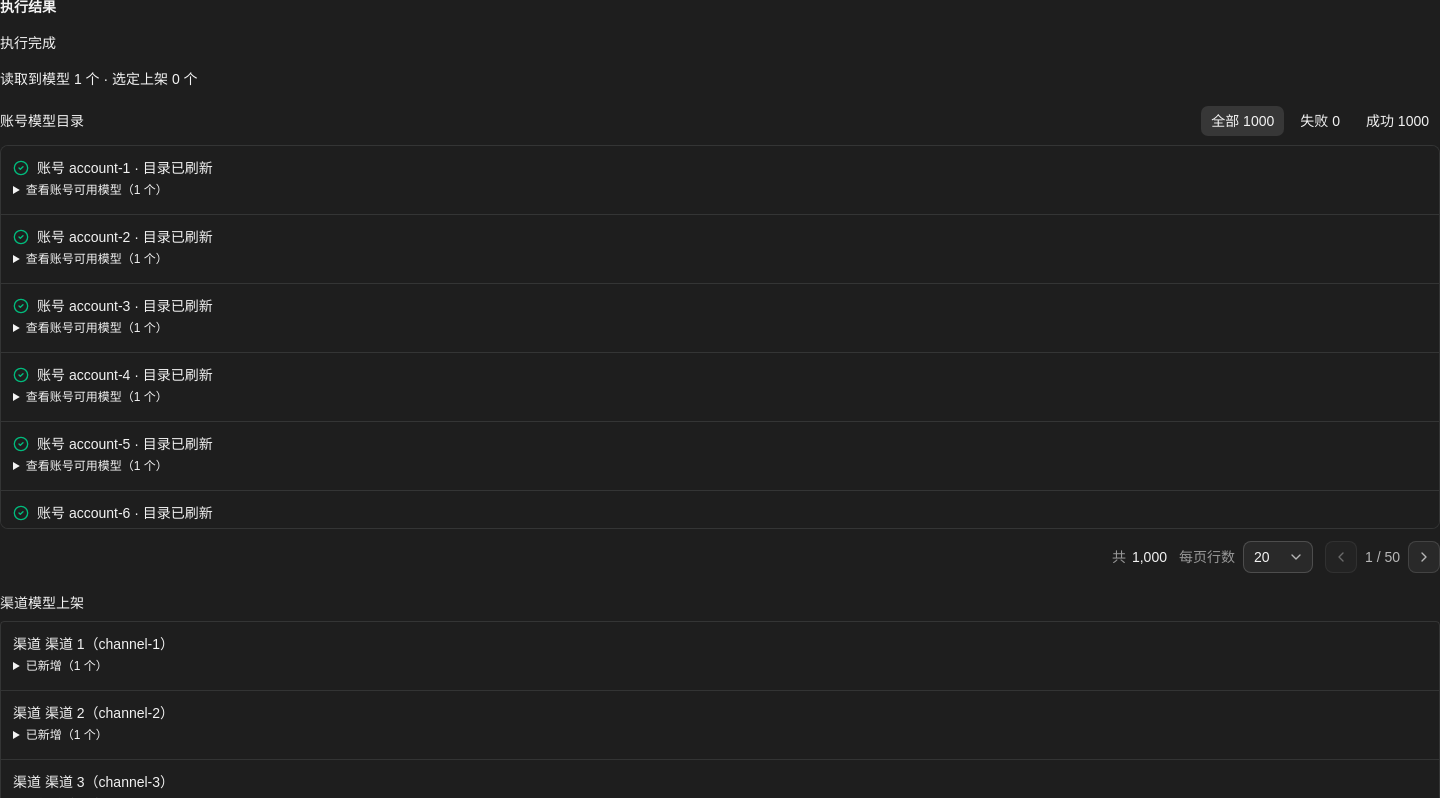
Test: 大结果集默认只挂载20条账号和渠道记录，翻页后可读取下一页
The width and height of the screenshot is (1440, 798).
Expected: the text "账号 account-21 · 目录已刷新" is not shown
Expected: the text "渠道 21" is not shown
Click the button named "转到下一页" at (1424, 557), box 1408,541 -> 1439,573
(page scrolled)
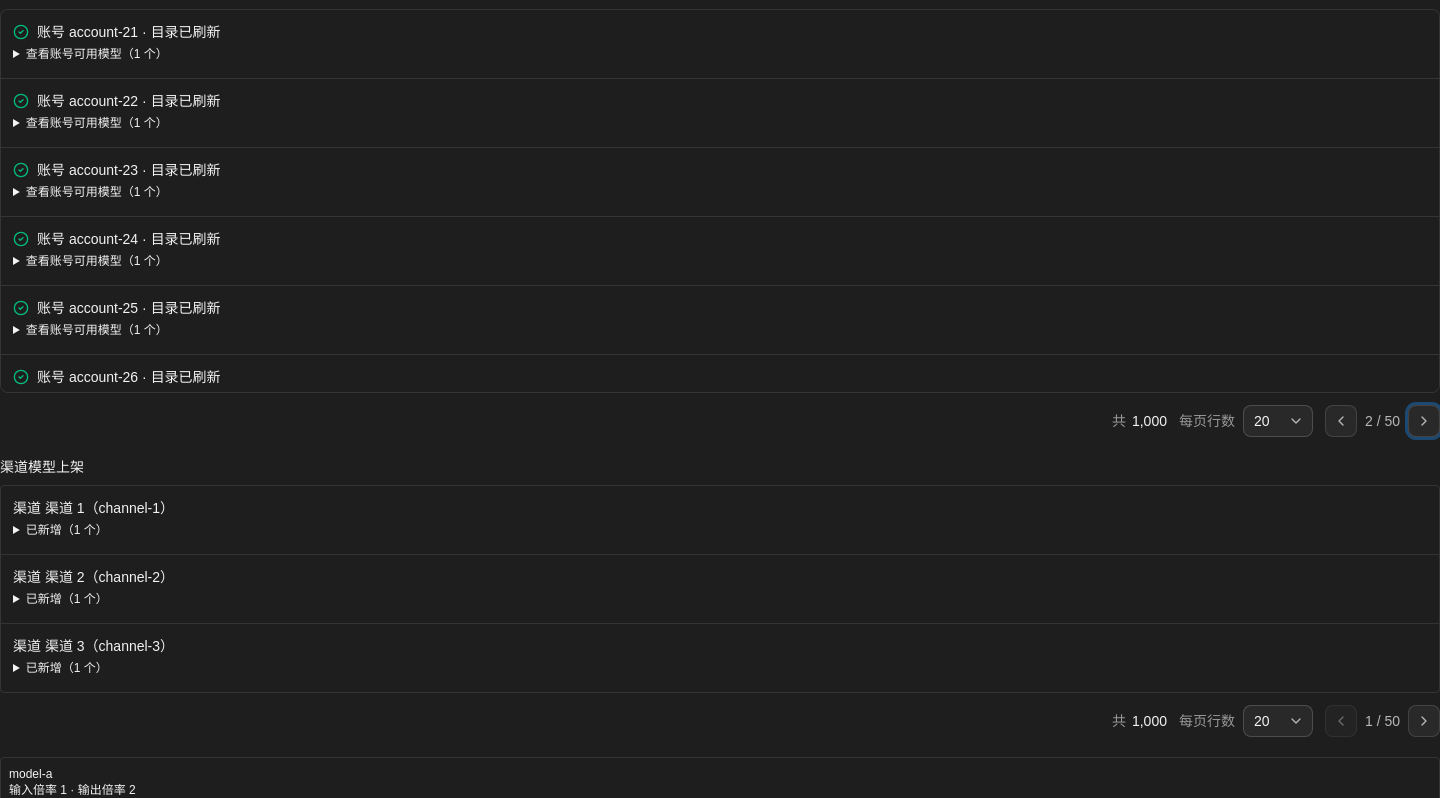
Click the button named "转到下一页" next to "1 / 50" at (1424, 721), box 1408,705 -> 1439,737
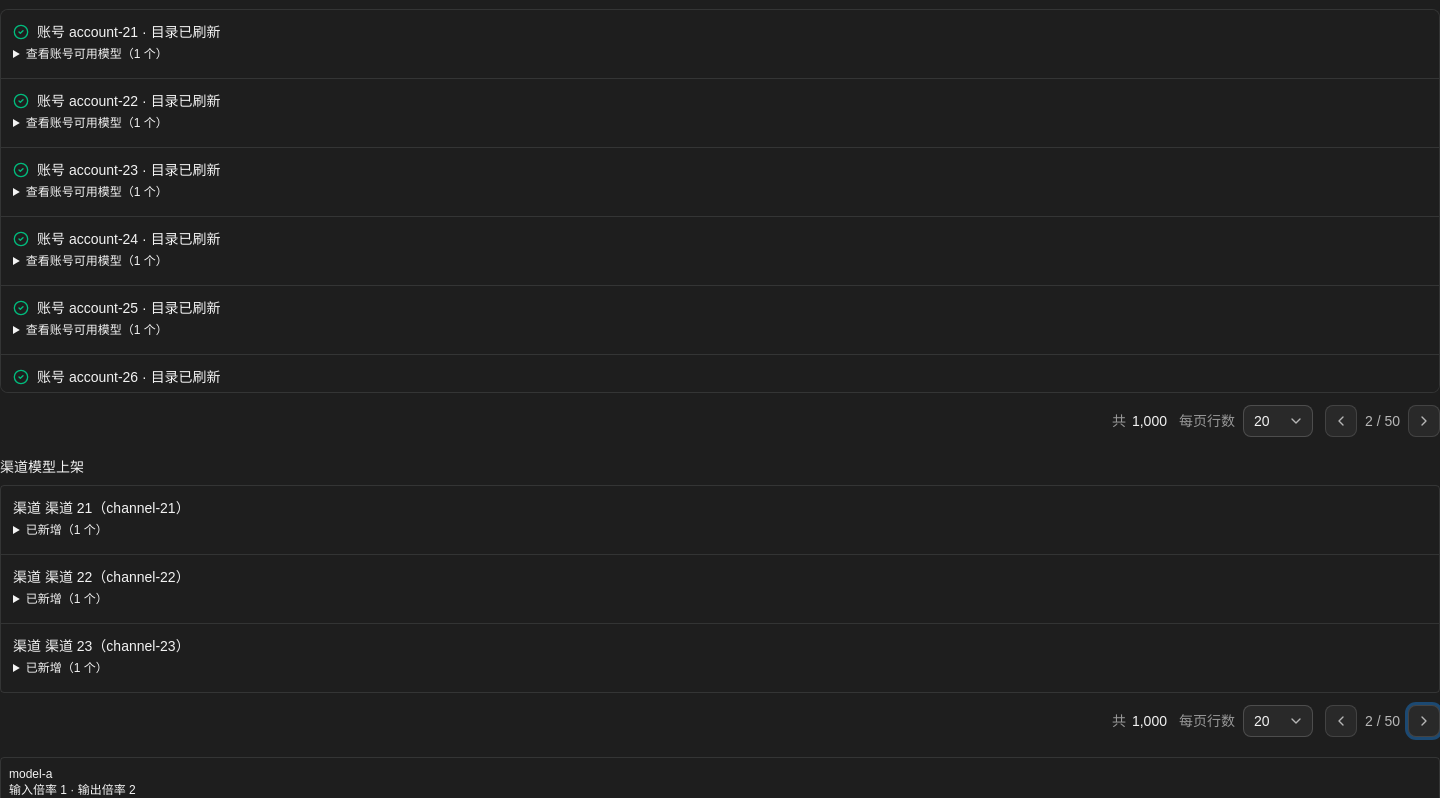
Result: the text "账号 account-21 · 目录已刷新" is shown at 37,22 -> 221,42
Result: the text "渠道 渠道 21（channel-21）" is shown at 13,500 -> 190,516
